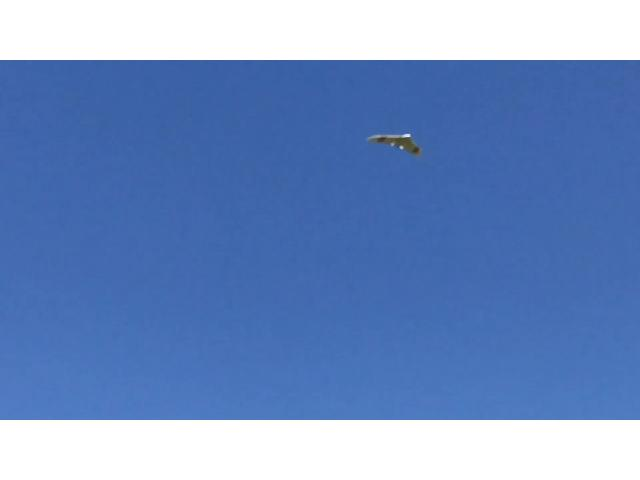Anti-Drone: (338, 110, 444, 173)
